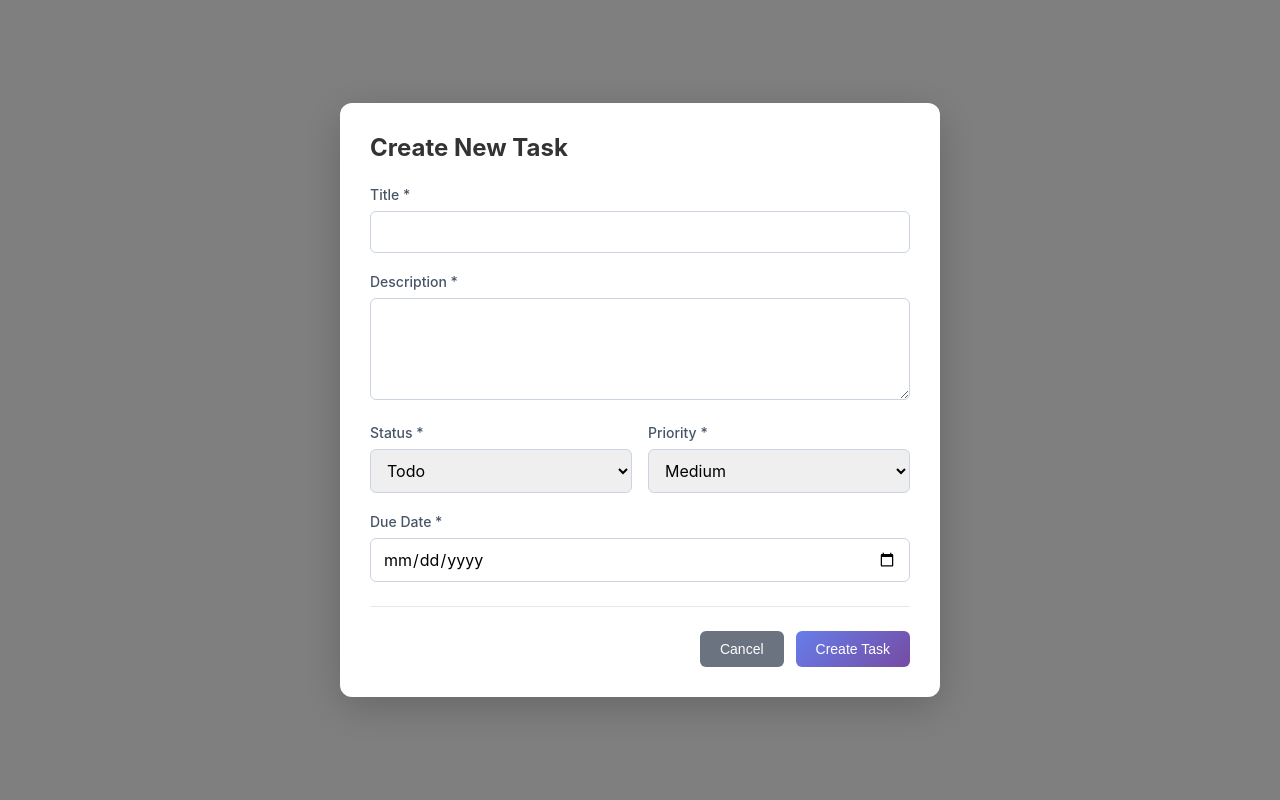
Test: TaskForm › shows error message on submit failure
This screenshot has width=1280, height=800.
Type "Test Task" into the field labelled "Title *" at (640, 232), box [370, 211, 910, 253]
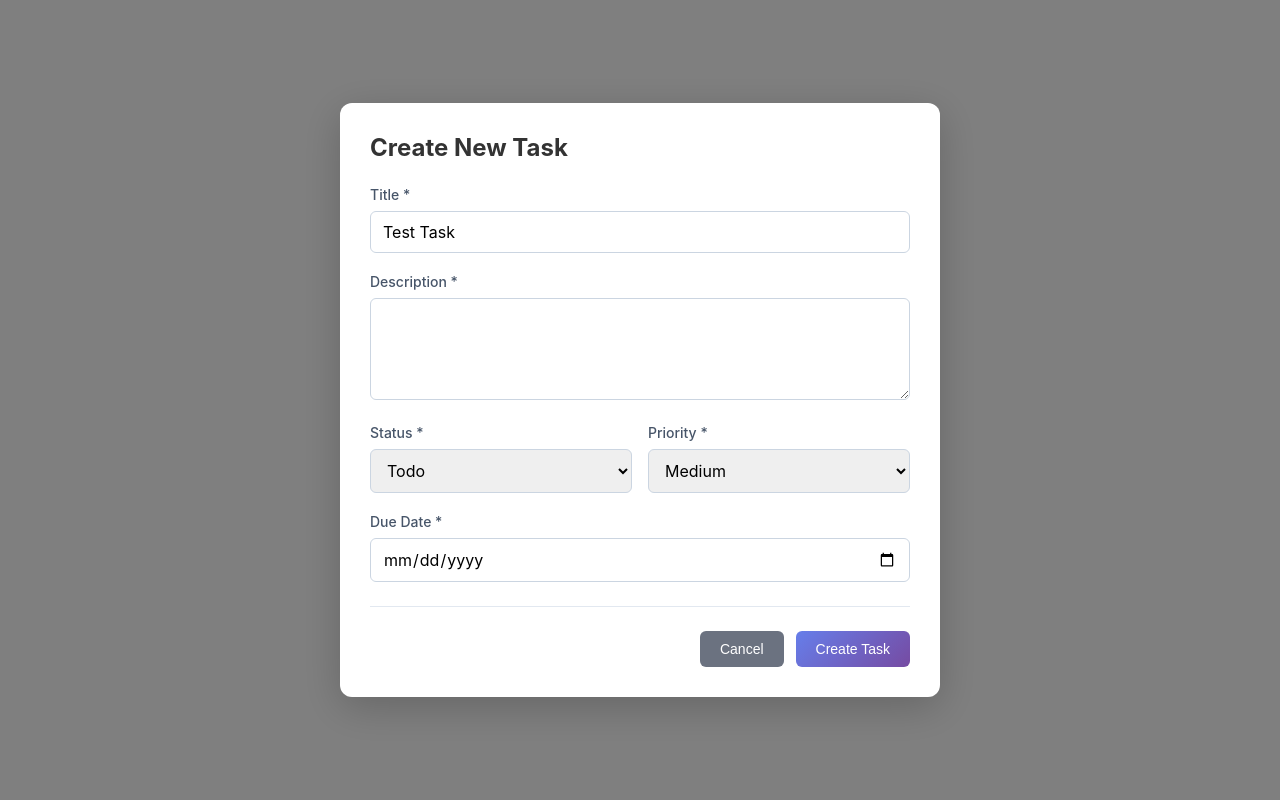
Type "Test Description" into the text box labelled "Description *" at (640, 349), box [370, 298, 910, 400]
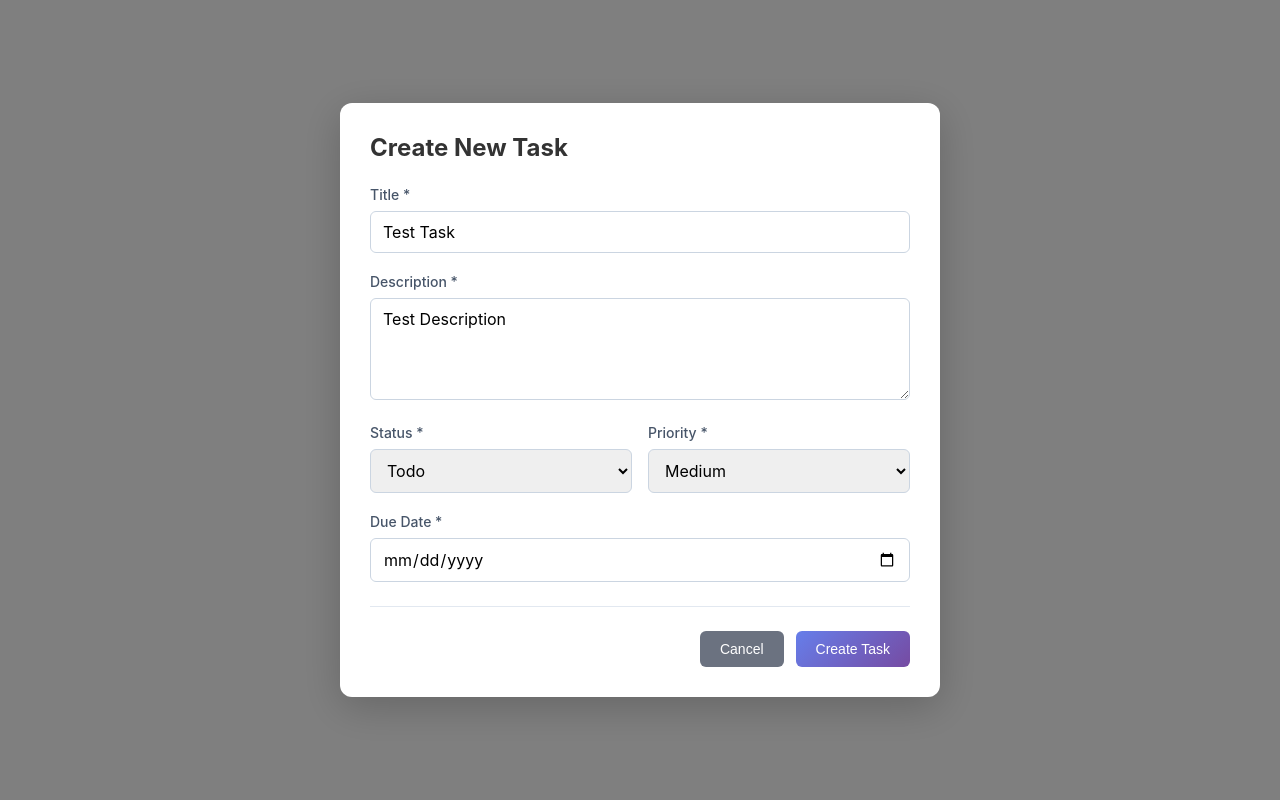
Type "2024-12-31" into the date field labelled "Due Date *" at (640, 560), box [370, 538, 910, 582]
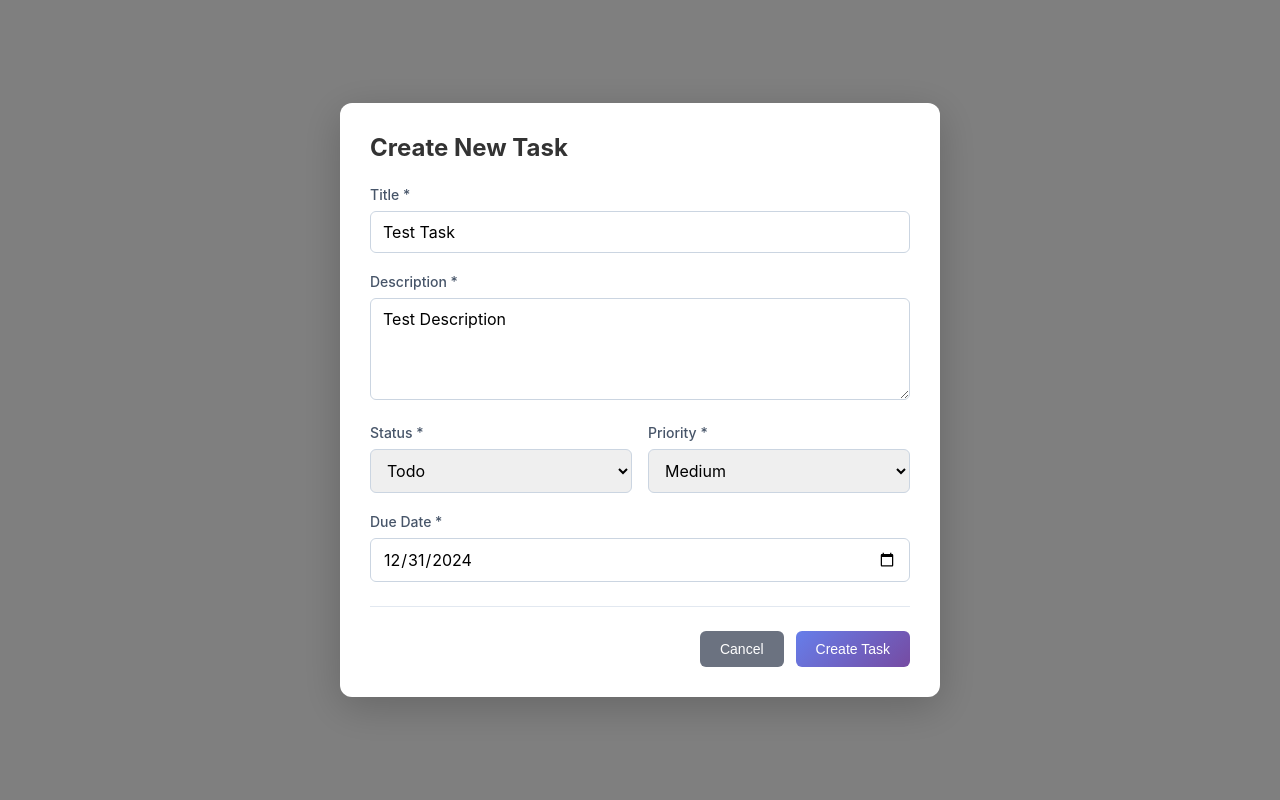
Click the button "Create Task" at (853, 649), box [796, 631, 910, 667]
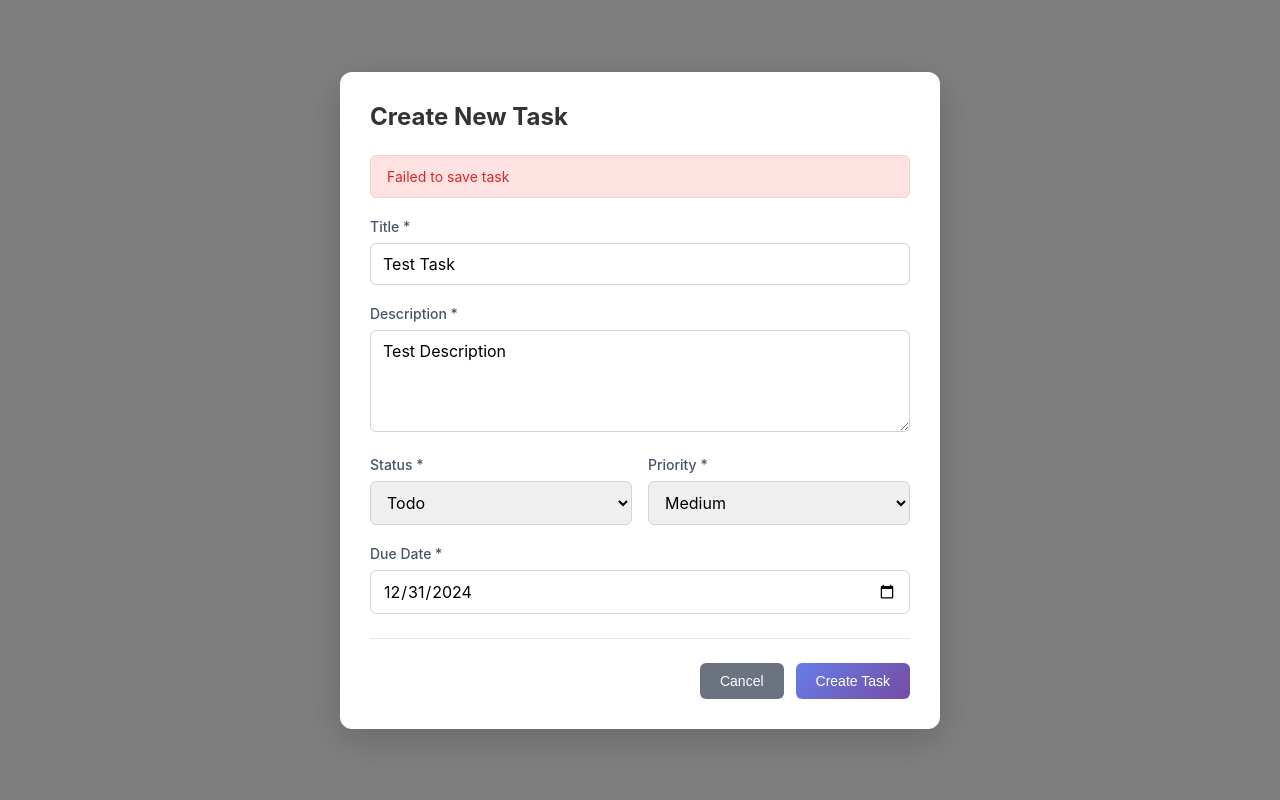
Expected: the text "Failed to save task" is shown, [370, 154, 910, 198]
